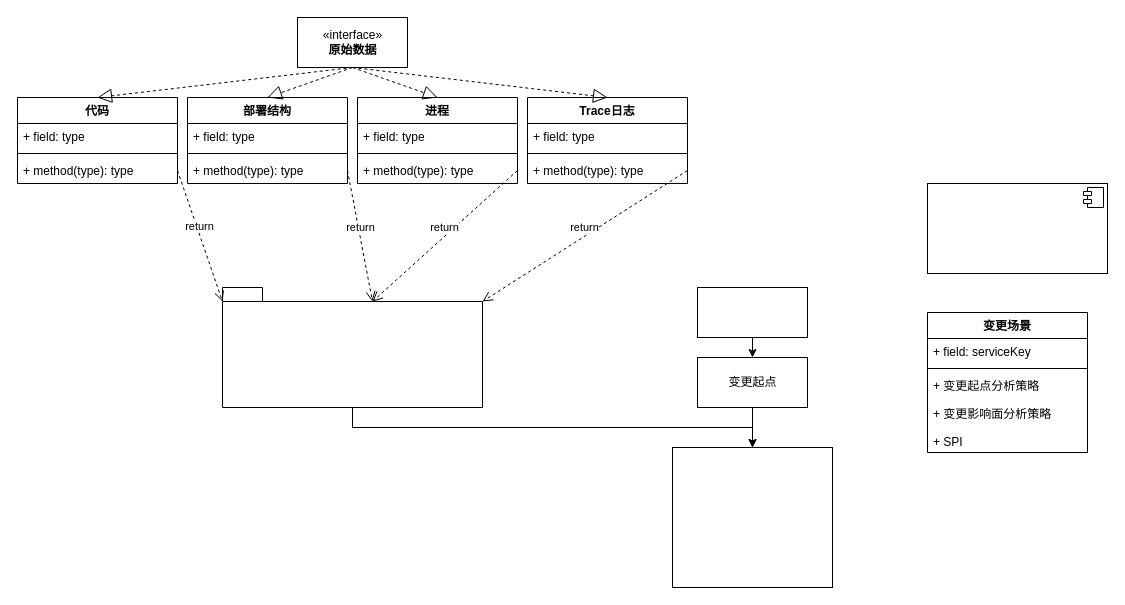
This 1125x605 diagram has some shape labels left out. Here are the shapes that lost their labels. From the top down, the centre of each, then its label:
(1017,228): 清洗/拉取规则 +
(752,312): 变更参数
(352,347): 元数据拓扑
(752,517): Object:变更影响面 + 监控实体 + 业务实体 + 部署实体 - 依赖关系 - 部署关系 。。。
